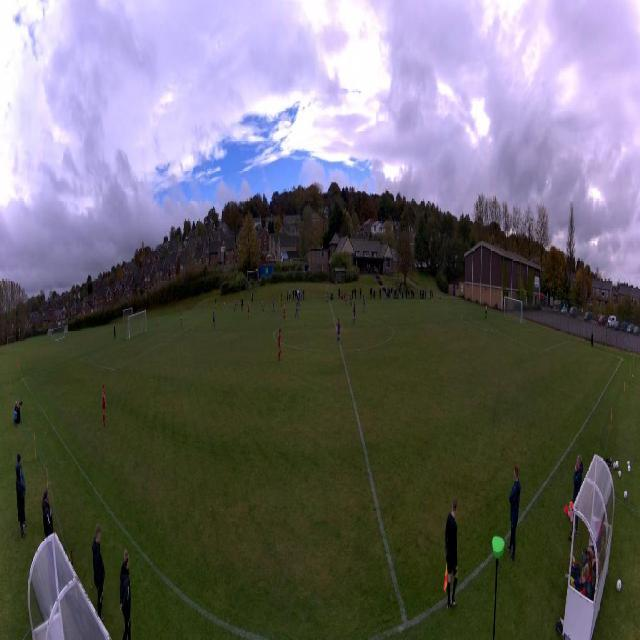ball: (226, 308, 227, 310)
player: (100, 384, 106, 426), (278, 327, 282, 362), (336, 318, 341, 343), (295, 299, 300, 319), (282, 303, 286, 321), (271, 298, 275, 314), (261, 298, 265, 314), (353, 303, 356, 324), (362, 296, 365, 314), (248, 302, 251, 320), (212, 311, 215, 328), (280, 293, 283, 309), (241, 297, 244, 313), (349, 292, 352, 307), (345, 292, 348, 307), (297, 295, 300, 307), (180, 311, 182, 327), (485, 304, 487, 320), (157, 316, 159, 330), (234, 298, 236, 312), (326, 291, 328, 303), (223, 299, 225, 310), (237, 296, 239, 306)
